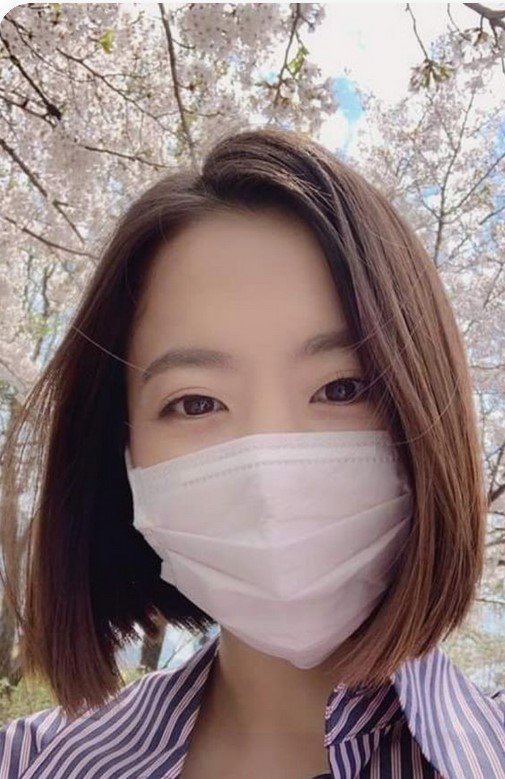face_with_mask: (97, 146, 460, 671)
